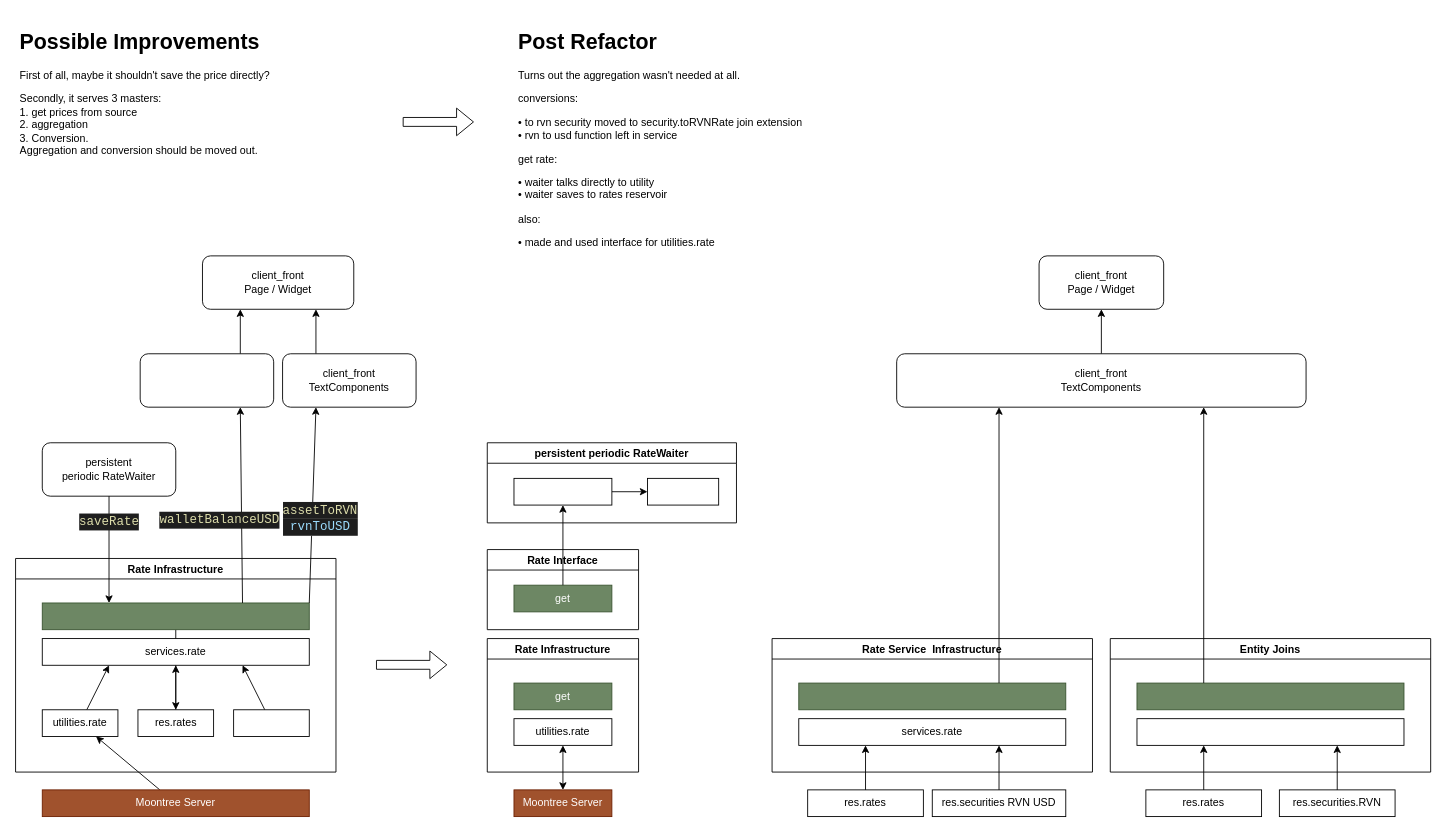
The diagram is 1446 pixels wide and 832 high, and some of its shapes have lost their labels. Here are the shapes that lost their labels. From the top down, the centre of each, then its label:
point (206, 380): client_front Current lookup module
point (562, 491): periodically get
point (683, 491): res.save
point (175, 616): method(s)
point (932, 696): rvnToUSD
point (1270, 696): toRVNRate
point (271, 722): res.securities
point (1270, 731): Security
